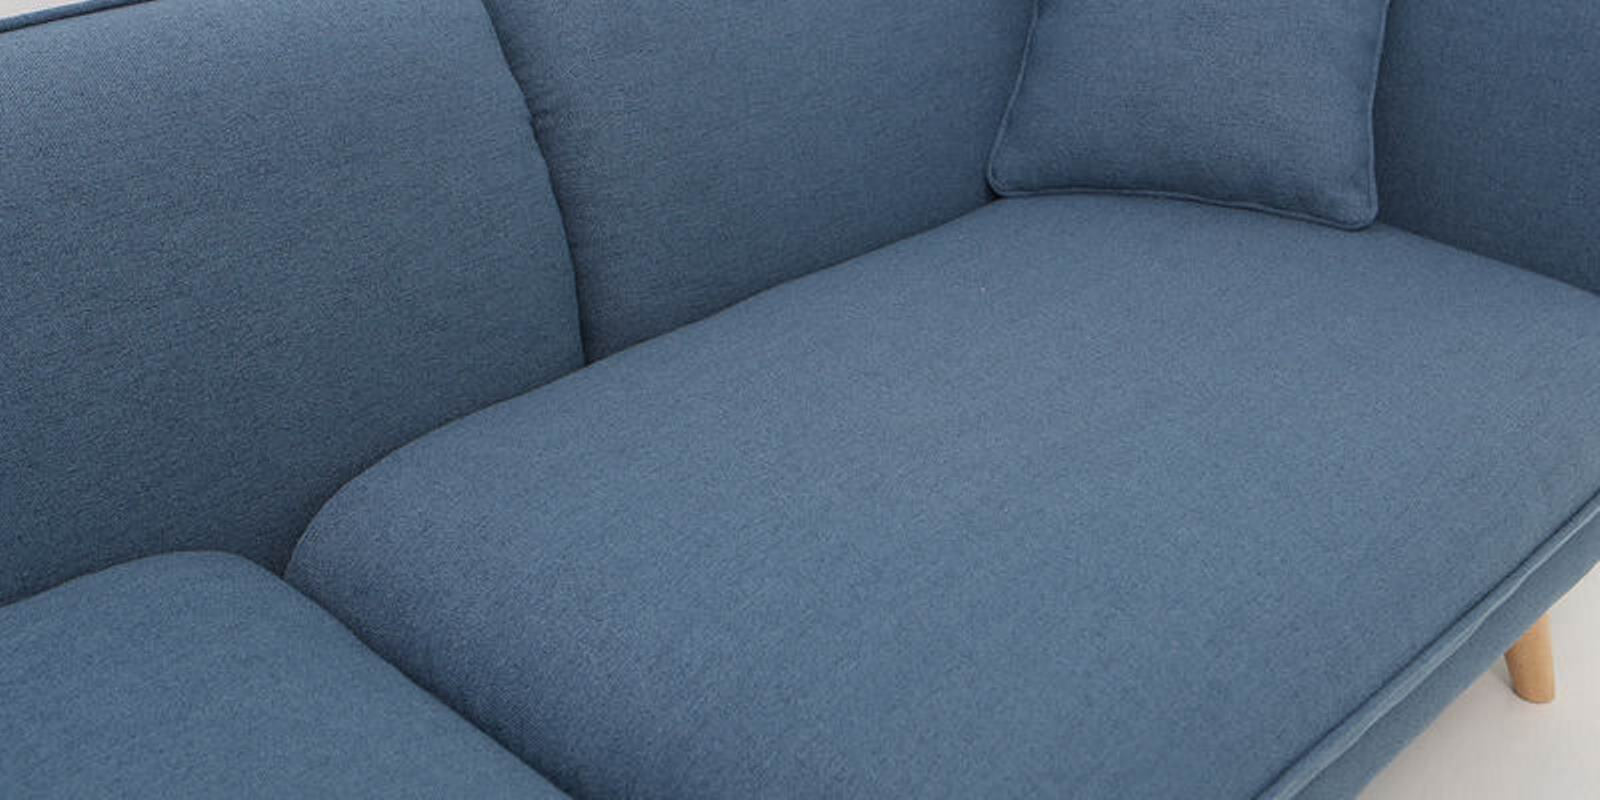Gloria Three Seater Sofa with Ottoman in Blue Colour by CasaCraft: (3, 14, 1599, 792)
